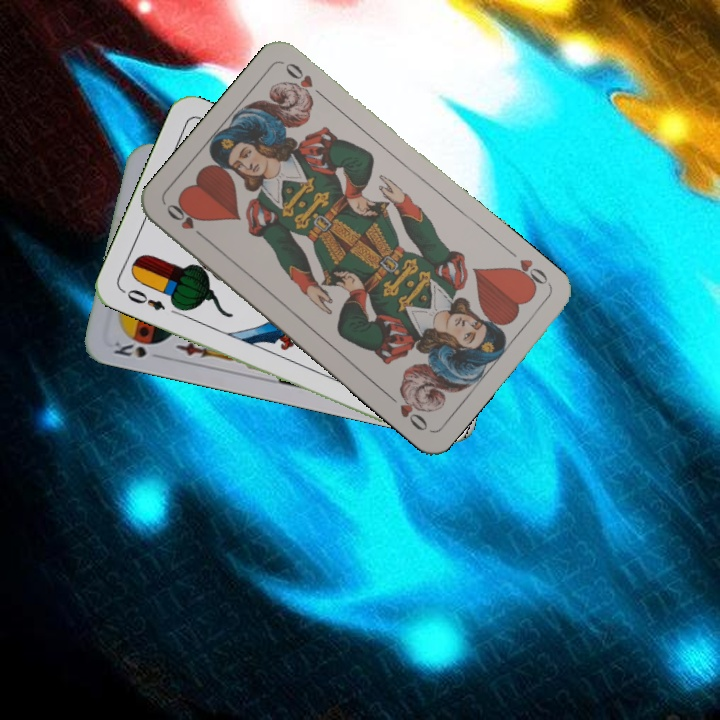EO: (123, 285, 168, 314)
HO: (162, 200, 211, 243), (505, 254, 553, 293)
SK: (110, 337, 149, 361)
